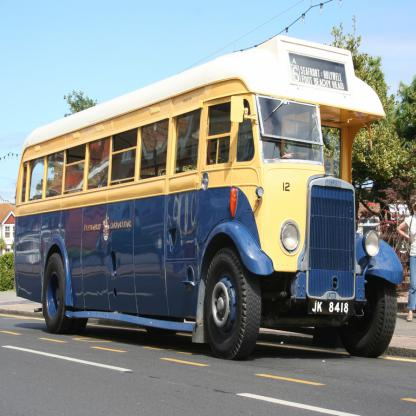Bus: (11, 39, 405, 357)
